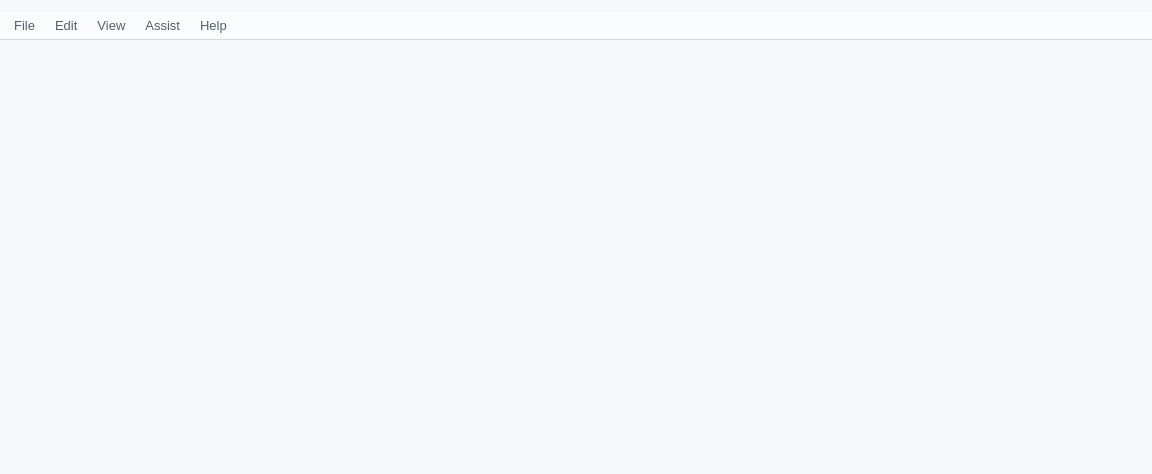
Scenario: ApplicationMenuBar structure (#663) › renders menu items, separators and a submenu chevron from the model
Click the menu item with class "applicationMenuBarItem" showing "File". click: (24, 26)
box: [4,14,45,37]
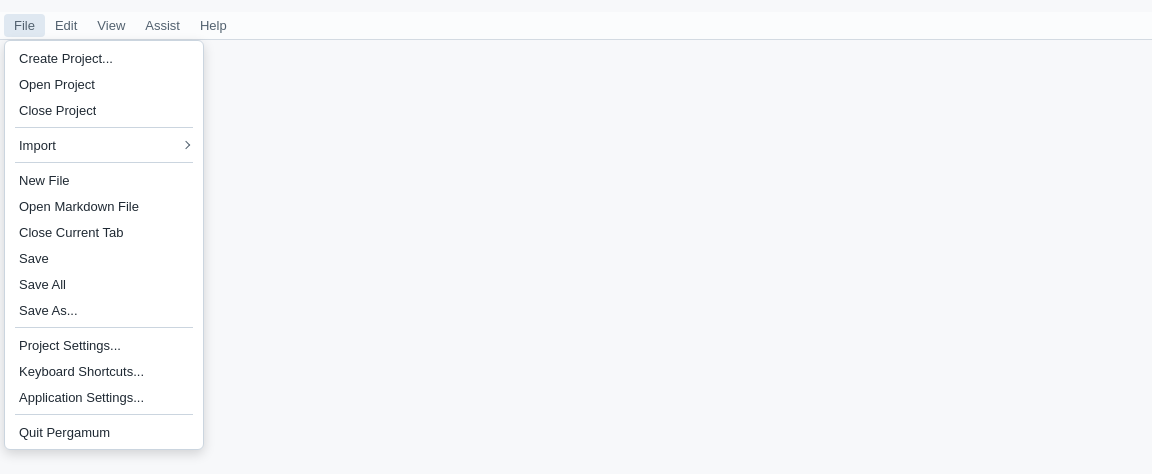
Check: the menu item with class "applicationMenuItem" showing "New File" is shown, box [19,172,70,188]
Check: the element with class "applicationMenuItemChevron" is shown, box [182,141,190,149]
